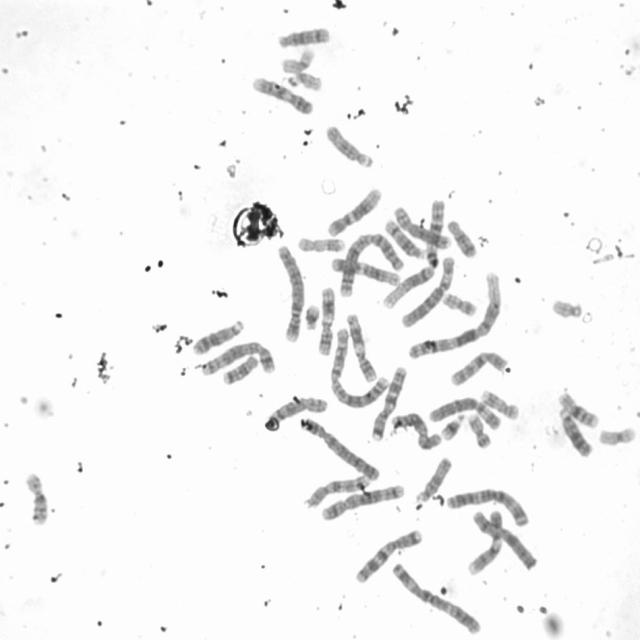A1: (403, 266, 505, 361), (380, 196, 448, 312)
A2: (327, 323, 390, 410), (336, 229, 404, 299)
A3: (387, 558, 484, 636), (443, 484, 531, 528)
B4: (298, 413, 382, 483), (273, 241, 306, 344)
B5: (318, 481, 408, 522), (197, 337, 278, 378)
C10: (302, 470, 372, 510), (447, 346, 509, 388)
C11: (344, 310, 378, 382), (314, 282, 337, 357)
C12: (323, 182, 384, 238), (328, 251, 402, 289)
C6: (398, 251, 458, 329), (427, 392, 502, 430)
C7: (351, 525, 425, 585), (368, 362, 408, 442)
C8: (390, 200, 452, 250), (262, 394, 328, 432)
C9: (249, 72, 315, 116), (464, 506, 504, 575)
D13: (189, 315, 246, 356), (555, 404, 595, 458)
D14: (381, 215, 426, 260), (275, 22, 333, 48)
D15: (322, 120, 376, 169), (413, 453, 454, 504)
E16: (554, 388, 601, 430), (21, 467, 50, 527)
E17: (477, 384, 521, 420), (294, 232, 347, 254)
E18: (444, 215, 479, 259), (220, 351, 261, 386)
F19: (278, 44, 317, 74), (596, 422, 638, 448)
F20: (439, 288, 479, 318), (465, 410, 493, 449)
G21: (438, 410, 467, 441), (301, 301, 321, 330)
G22: (284, 68, 324, 92), (548, 294, 585, 319)
X: (470, 506, 540, 572), (388, 408, 443, 452)
